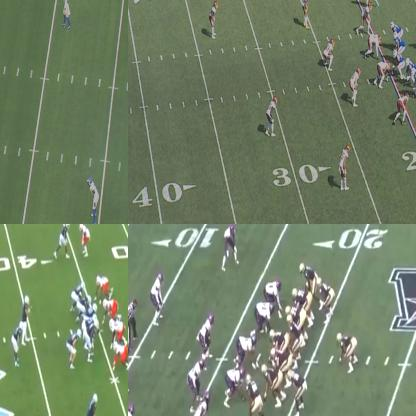CENTER: (267, 325, 291, 348), (392, 52, 404, 74), (84, 304, 99, 319)
DB: (222, 224, 238, 266), (153, 270, 164, 321), (340, 144, 350, 189), (90, 176, 99, 223), (194, 391, 210, 415), (266, 98, 276, 136), (79, 224, 90, 255), (60, 0, 71, 29), (209, 2, 217, 37)
LB: (188, 357, 205, 402), (201, 314, 213, 353), (349, 69, 360, 107), (323, 41, 336, 71), (302, 0, 313, 29)
QB: (285, 315, 303, 354), (21, 296, 31, 343)
SKILL: (287, 371, 306, 415), (247, 372, 266, 415), (336, 331, 358, 368), (318, 279, 335, 315), (12, 320, 23, 366), (300, 263, 317, 292), (66, 334, 77, 370), (57, 224, 69, 255), (82, 396, 98, 415), (362, 0, 377, 8)
